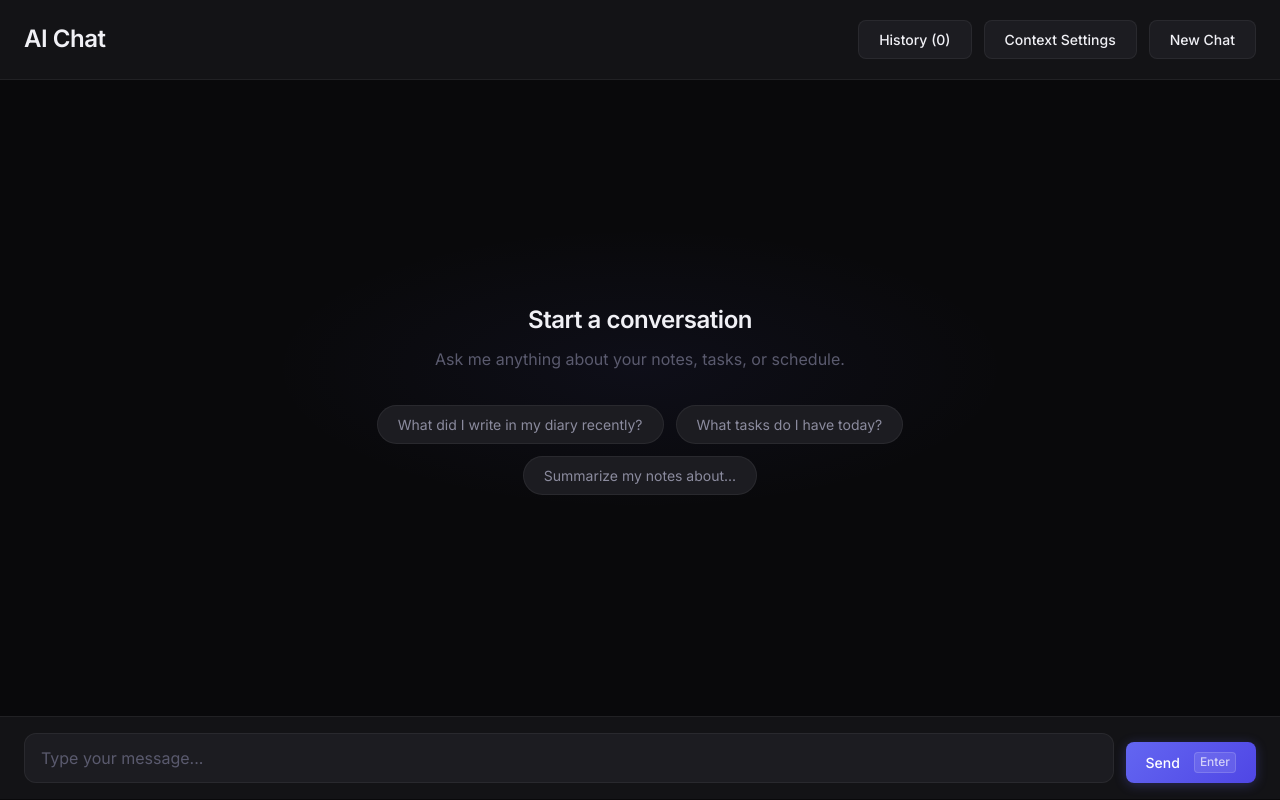
Test: Chat Component › displays user message after sending
Type "Test message" into the text box with placeholder "Type your message...".
click(569, 758); type("Test message")  # box x1=24 y1=733 x2=1114 y2=783
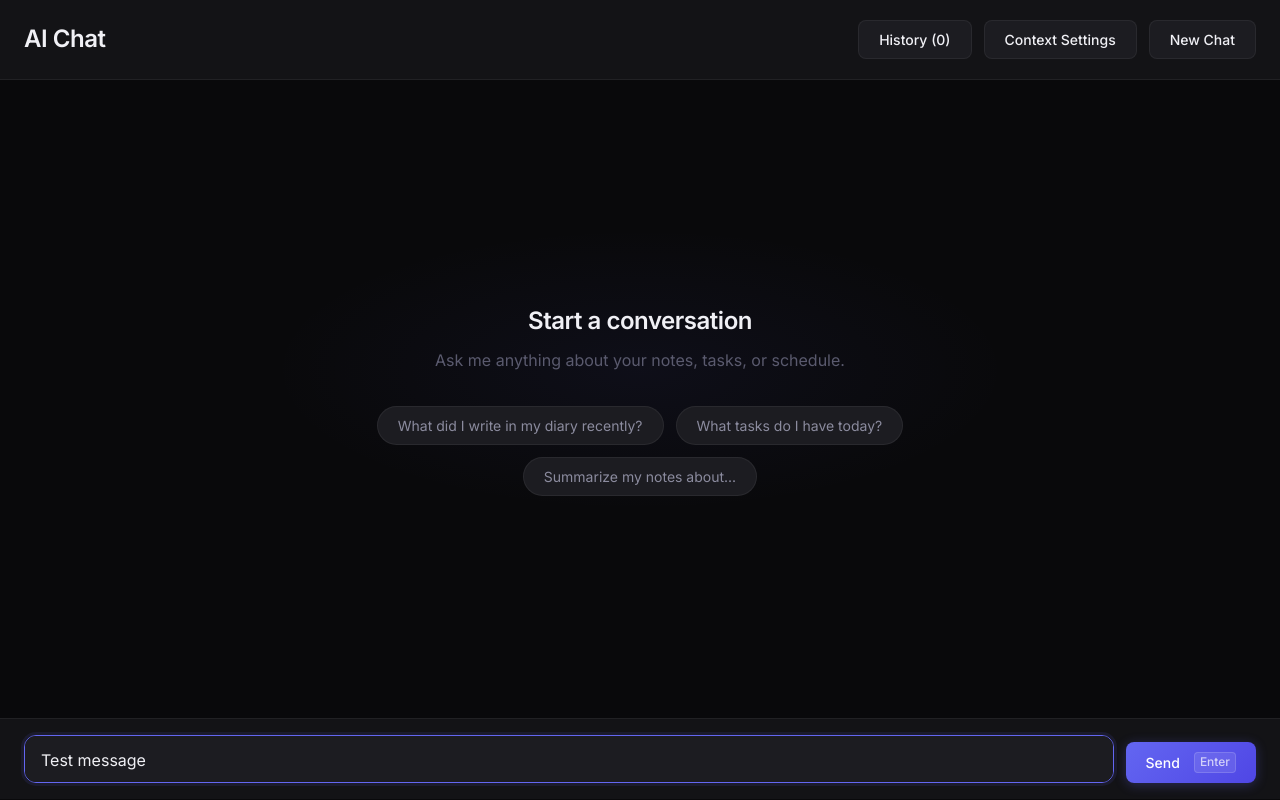
Click the button "Send Enter".
click(1191, 763)  # box x1=1126 y1=742 x2=1256 y2=783
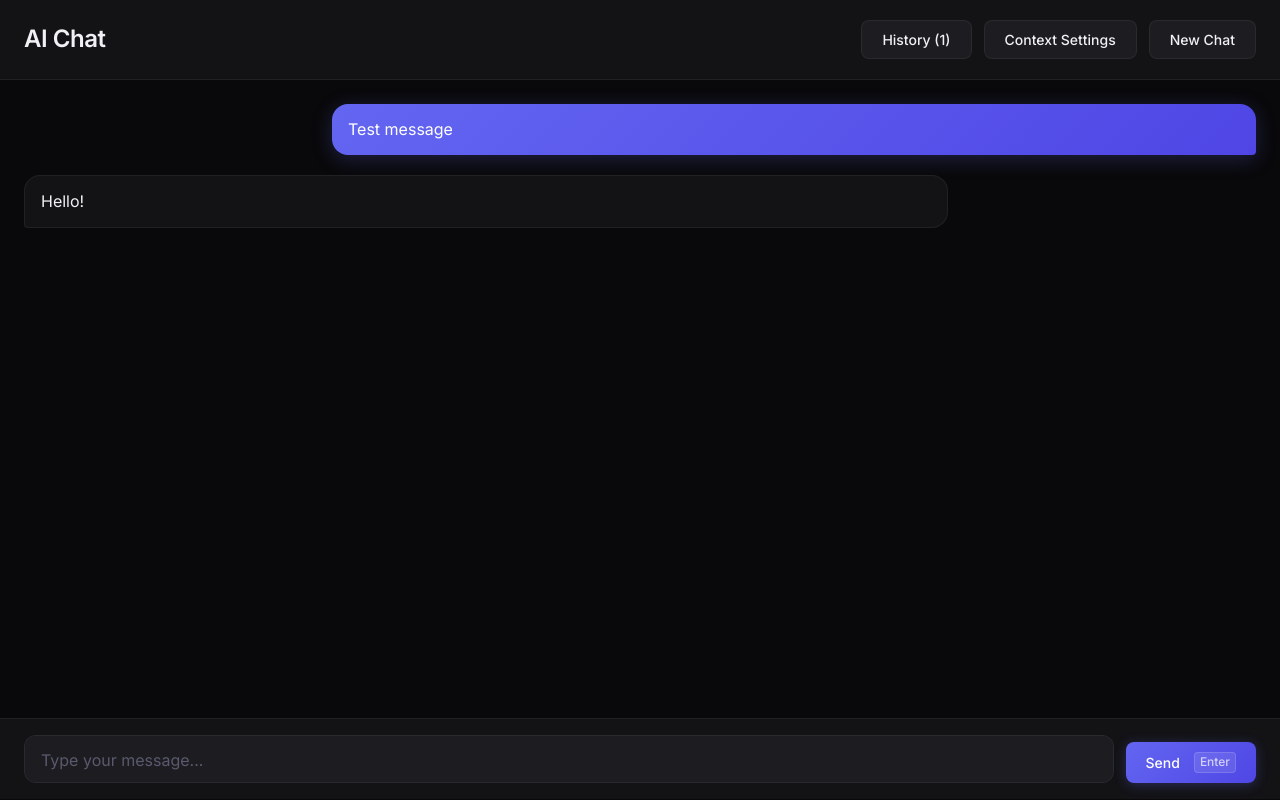
expect the text "Test message" is shown: met, box x1=332 y1=104 x2=1256 y2=155
